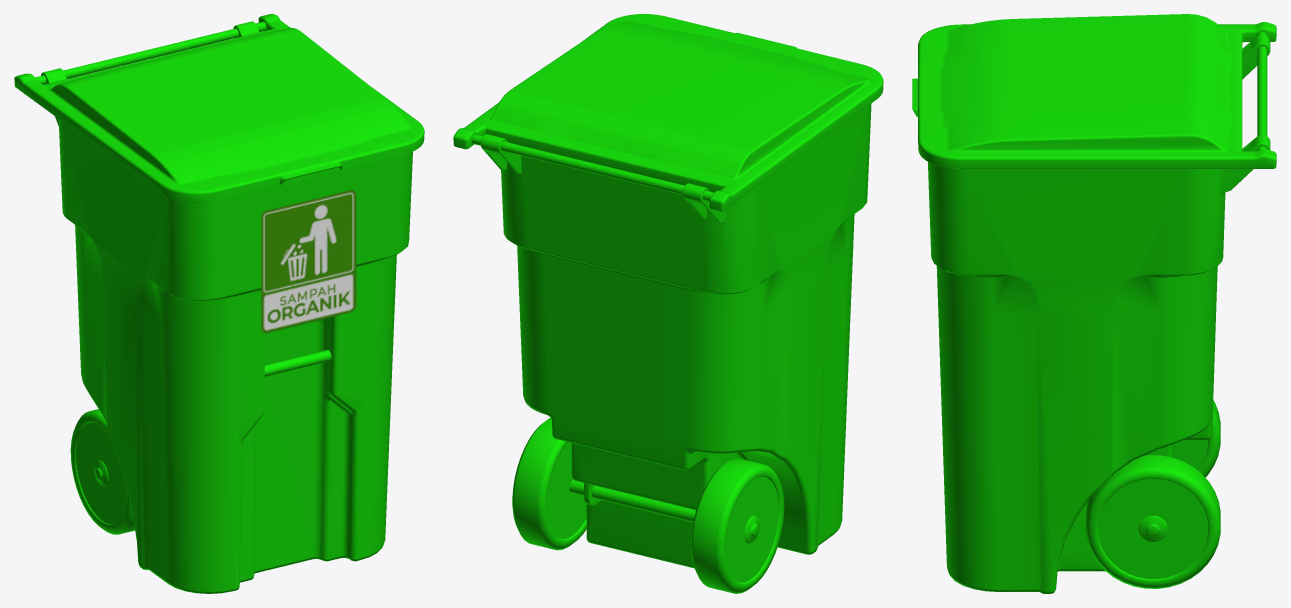
File: hijau.fbx
3 views of the same model, side by side, from view 1: azimuth 30°, elevation 25°; view 2: azimuth 150°, elevation 25°; view 3: azimuth 270°, elevation 25° (orthographic). The views are drawn at different scales.
Visible parts, largest first — view 1: can_garbage_base_realistic_lod0, Empty.003; view 2: can_garbage_base_realistic_lod0; view 3: can_garbage_base_realistic_lod0.
Boxes of the visible parts, left/top/right/bottom form: can_garbage_base_realistic_lod0: left=14, top=14, right=424, bottom=593; Empty.003: left=261, top=190, right=356, bottom=332; can_garbage_base_realistic_lod0: left=453, top=14, right=883, bottom=593; can_garbage_base_realistic_lod0: left=912, top=14, right=1276, bottom=593.
Bounding box in the file's own units: 91.98 × 149 × 105.
Materials: 2 (1 with a texture image).
